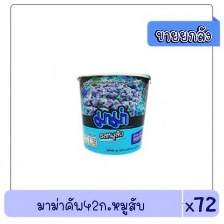paper_cup: (72, 68, 153, 159)
